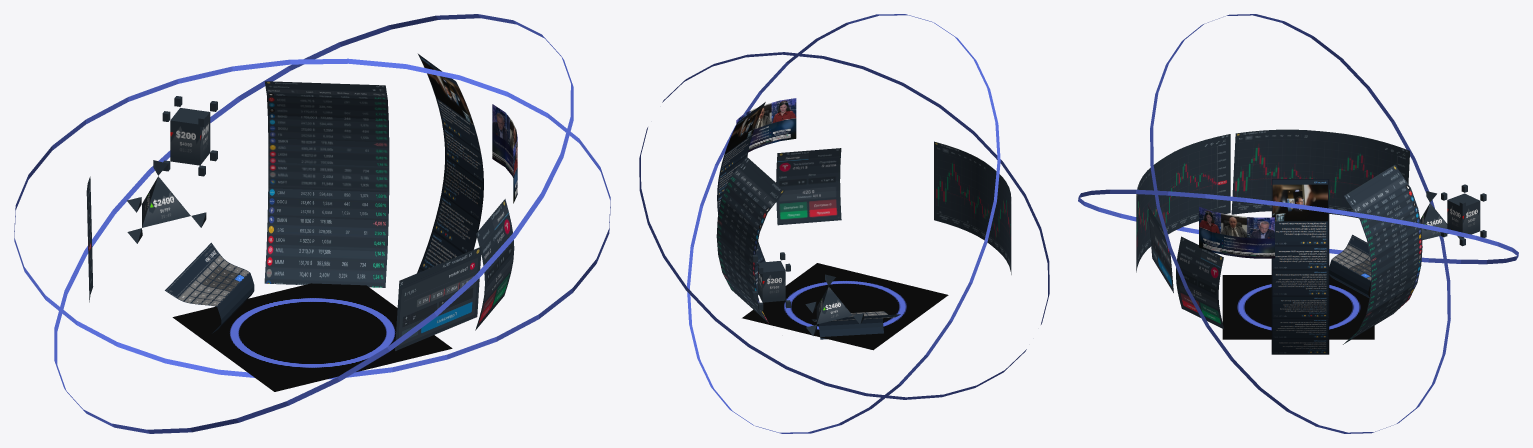
Rendered from trading.glb.
The picture shows the model from 3 angles, left to right: view 1: azimuth 30°, elevation 25°; view 2: azimuth 150°, elevation 25°; view 3: azimuth 270°, elevation 25°; orthographic projection. The views are drawn at different scales.
Visible parts, largest first — view 1: image 1.001, Vector, news, Circle, Circle.001, image 1.003, calculator, image 1.002, robot_2, robot, tv; view 2: Vector, image 1.006, image 1.001, image 1.002, Circle.001, Circle, tv, news, robot_2, calculator, robot; view 3: news, image 1.004, image 1.001, image 1.006, Vector, Circle.001, tv, Circle, image 1.002, calculator, robot_2, image 1.003 (+1 smaller).
Boxes of the visible parts, x1,y1,x2,y2 form: image 1.001: [264, 81, 389, 287]; Vector: [172, 283, 452, 391]; news: [417, 54, 483, 273]; Circle: [54, 14, 573, 433]; Circle.001: [14, 58, 610, 379]; image 1.003: [395, 246, 481, 350]; calculator: [165, 242, 254, 333]; image 1.002: [475, 199, 514, 330]; robot_2: [162, 96, 217, 176]; robot: [127, 160, 206, 243]; tv: [492, 104, 517, 203]; Vector: [742, 263, 948, 350]; image 1.006: [934, 141, 1011, 274]; image 1.001: [716, 157, 784, 322]; image 1.002: [776, 148, 841, 225]; Circle.001: [687, 14, 1000, 433]; Circle: [639, 52, 1049, 399]; tv: [736, 98, 796, 152]; news: [717, 102, 765, 294]; robot_2: [752, 252, 790, 310]; calculator: [811, 311, 900, 339]; robot: [805, 274, 864, 335]; news: [1271, 179, 1329, 354]; image 1.004: [1231, 129, 1409, 218]; image 1.001: [1343, 165, 1422, 344]; image 1.006: [1136, 134, 1230, 272]; Vector: [1222, 275, 1374, 339]; Circle.001: [1150, 14, 1450, 433]; tv: [1199, 206, 1274, 258]; Circle: [1078, 189, 1518, 264]; image 1.002: [1176, 236, 1224, 329]; calculator: [1329, 234, 1371, 298]; robot_2: [1441, 184, 1486, 246]; image 1.003: [1148, 206, 1173, 292].
Size of the model in its own units: 6.05 by 5.5 by 6.49.
Materials: 7 (7 with a texture image).
